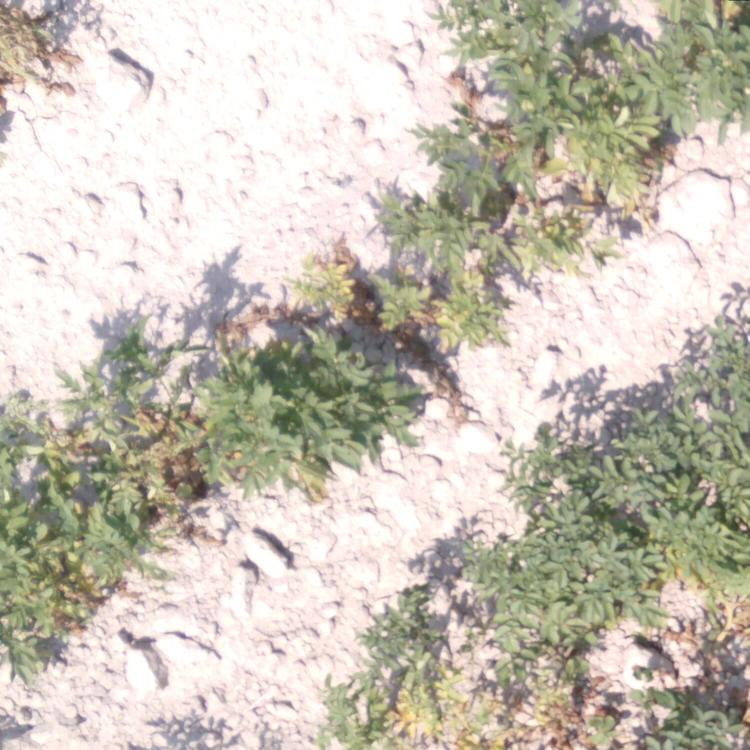healthy: (462, 5, 735, 104), (468, 441, 616, 608), (636, 323, 745, 533), (220, 338, 387, 466)
stressed: (336, 628, 613, 750), (403, 125, 663, 246), (4, 400, 101, 661), (624, 547, 741, 742), (116, 369, 214, 540), (306, 250, 497, 332), (1, 1, 80, 129)
